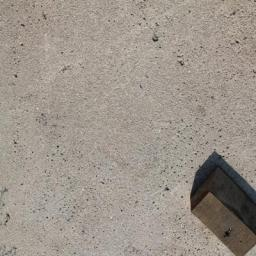FOD: (188, 149, 256, 256)
